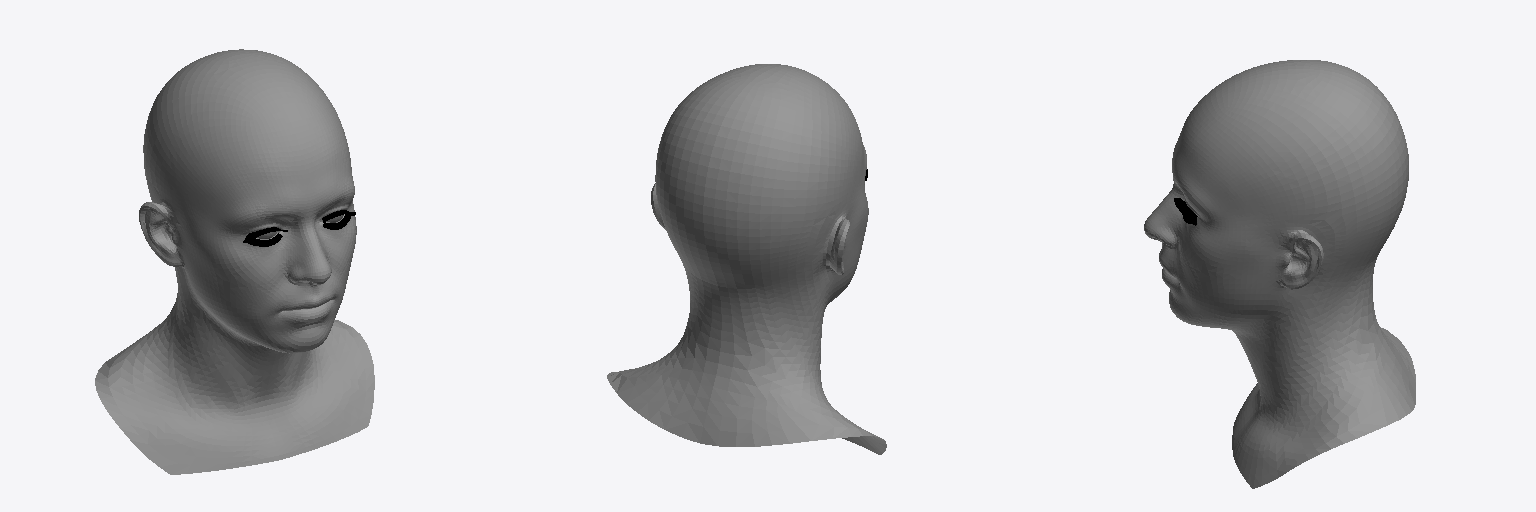
File: identity057.obj
3 views of the same model, side by side, from view 1: azimuth 30°, elevation 25°; view 2: azimuth 150°, elevation 25°; view 3: azimuth 270°, elevation 25° (orthographic).
Bounding box in the file's own units: 24.82 × 33.83 × 22.34.